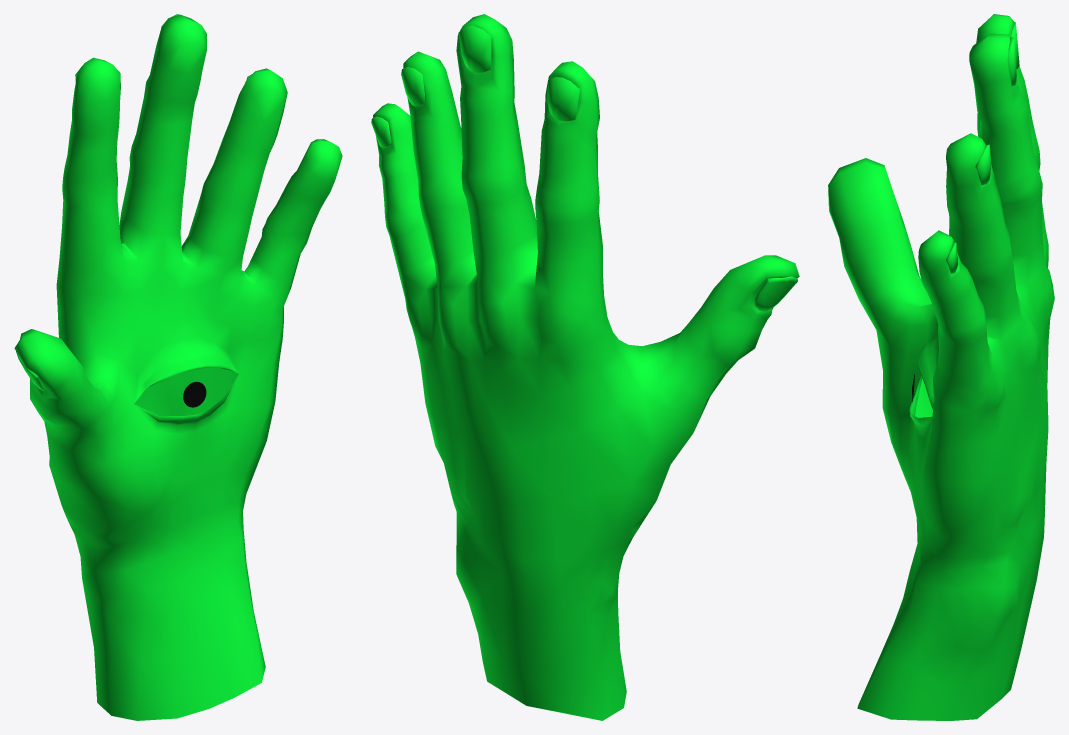
File: HandEye.FBX
The picture shows the model from 3 angles, left to right: view 1: azimuth 30°, elevation 25°; view 2: azimuth 150°, elevation 25°; view 3: azimuth 270°, elevation 25°; orthographic projection. The views are drawn at different scales.
Parts seen in each view (by area): view 1: HandEye; view 2: HandEye; view 3: HandEye.
Part boxes in pixels (bbox=[...]): HandEye: bbox=[14, 14, 342, 720]; HandEye: bbox=[371, 14, 799, 720]; HandEye: bbox=[828, 14, 1054, 720].
Size of the model in its own units: 5.92 by 3.03 by 10.27.
Materials: 1 (1 with a texture image).
